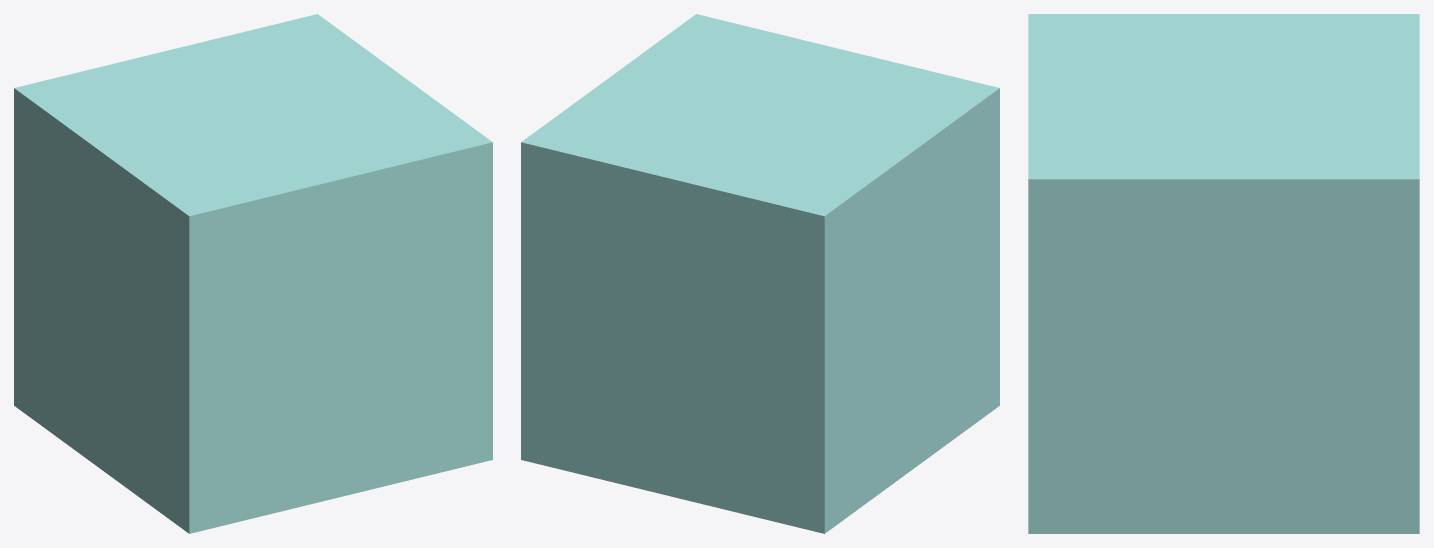
Rendered from 113_tidelily_petal_block.glb.
3 views of the same model, side by side, from view 1: azimuth 30°, elevation 25°; view 2: azimuth 150°, elevation 25°; view 3: azimuth 270°, elevation 25° (orthographic). The views are drawn at different scales.
Visible parts, largest first — view 1: Core; view 2: Core; view 3: Core.
Boxes of the visible parts, <box> form: Core: <box>14,14,492,533</box>; Core: <box>521,14,999,533</box>; Core: <box>1028,14,1419,533</box>.
Size of the model in its own units: 1 by 1 by 1.
